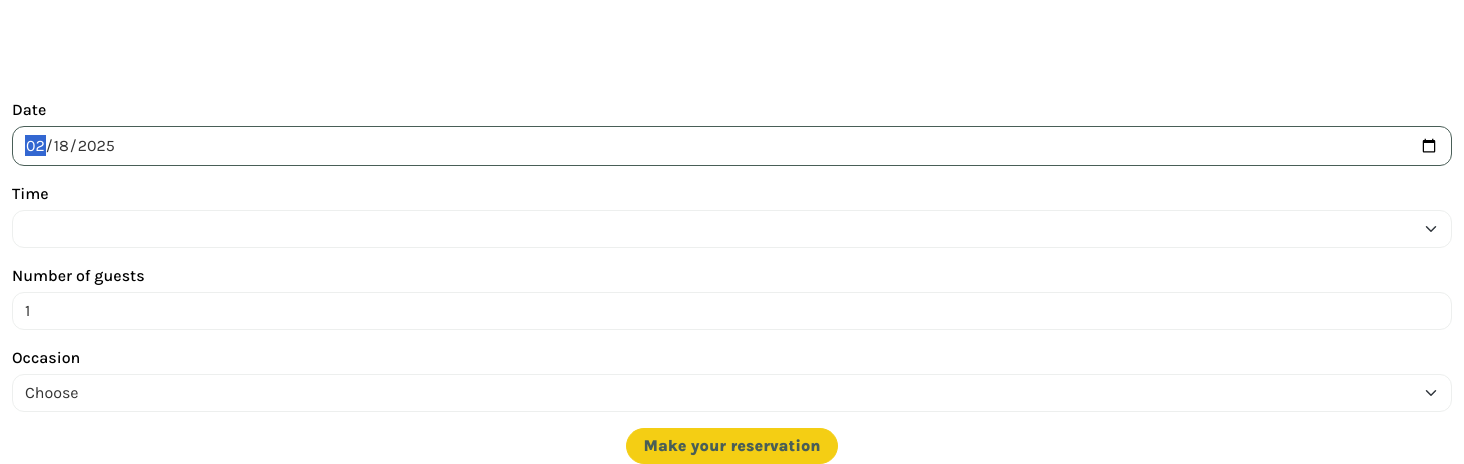
BookingForm › BookingForm show validate error and fail to submit
The image size is (1464, 464).
(page scrolled)
Clear the date field with test id "input-date": (732, 146) [12, 126, 1452, 166]
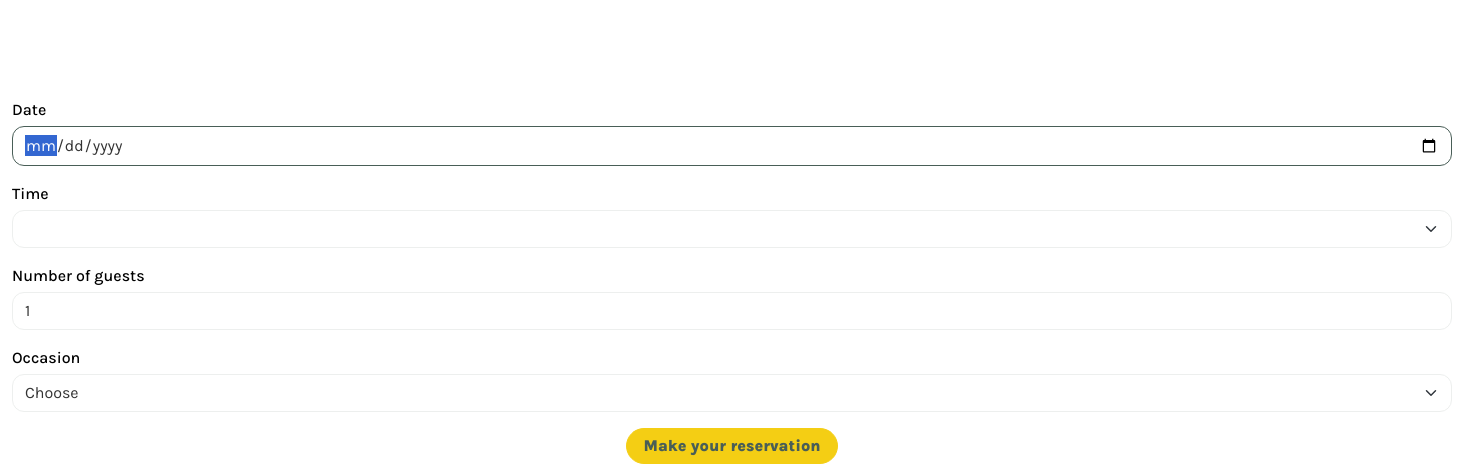
Select "" in the dropdown with test id "input-time": (732, 229) [12, 210, 1452, 248]
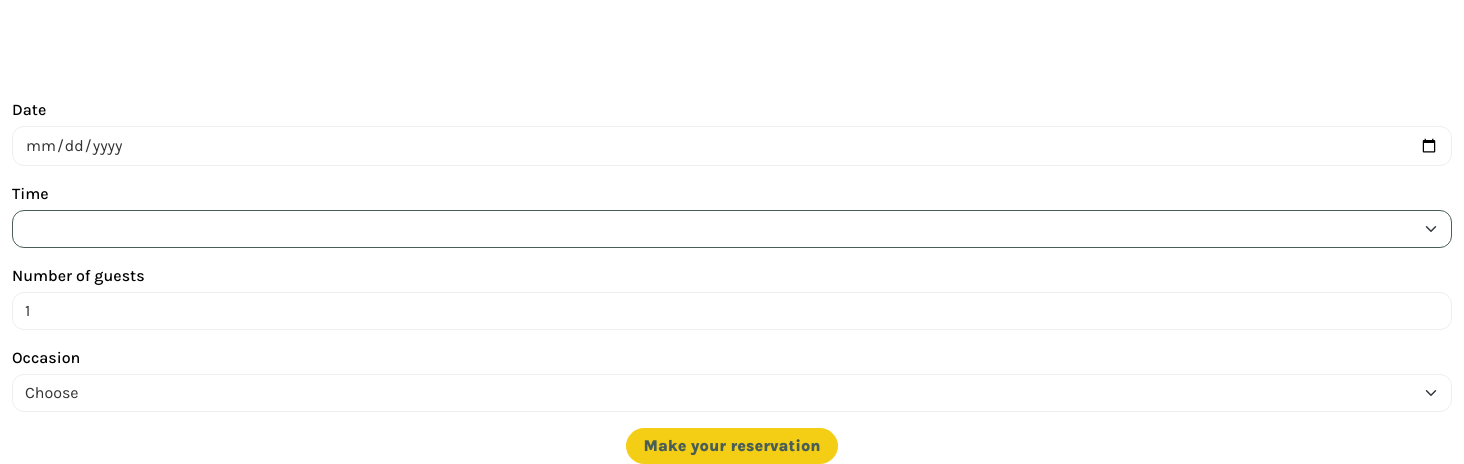
Replace the text in the number field with test id "input-number-of-guests" with "0": (732, 311) [12, 292, 1452, 330]
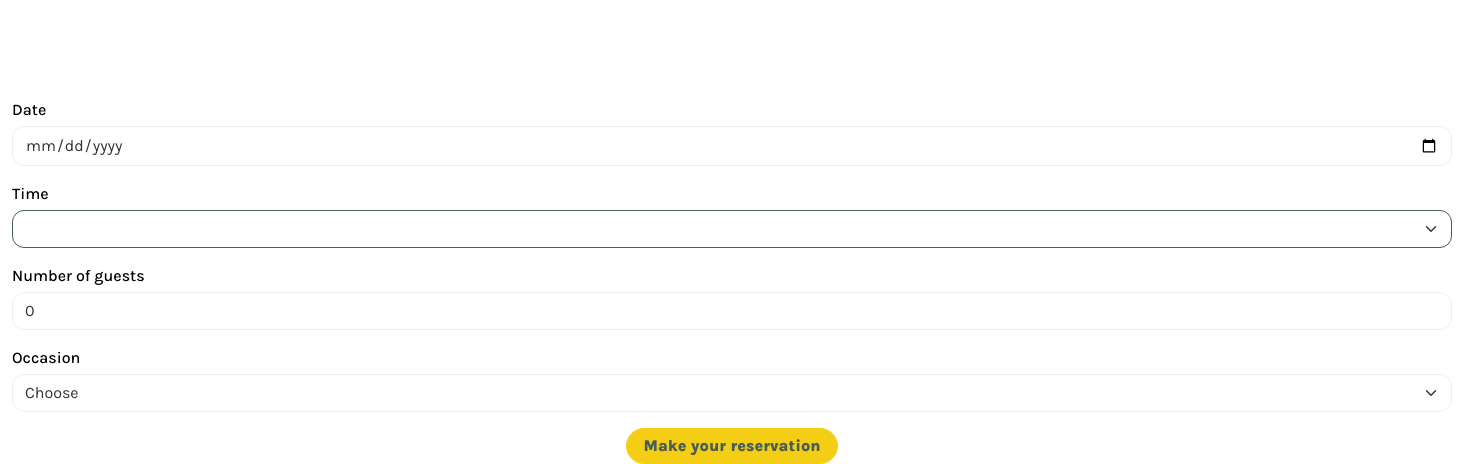
Select "Choose" in the dropdown with test id "input-occasion": (732, 393) [12, 374, 1452, 412]
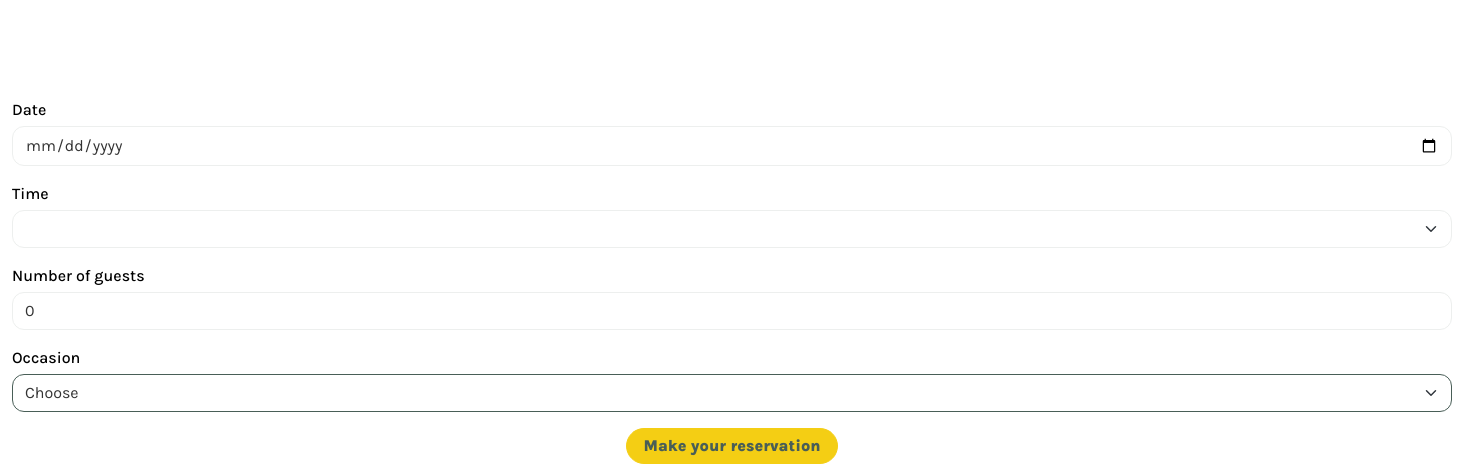
Submit the form from the button, box [626, 428, 838, 463]
(page scrolled)
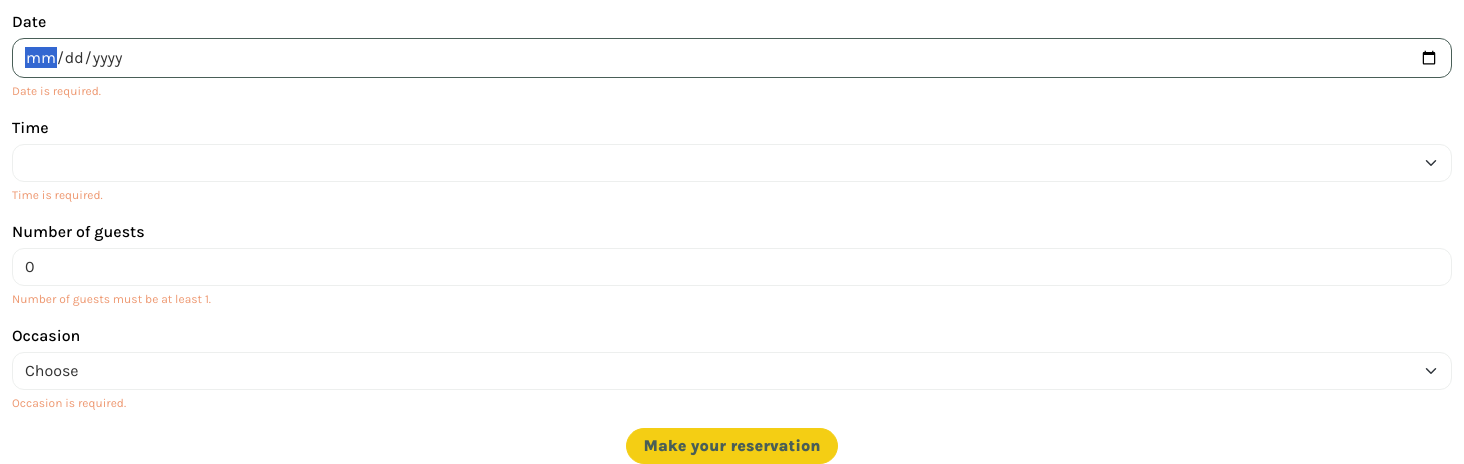
expect the number of messages is 4: met, box [12, 84, 101, 98]; [12, 188, 103, 202]; [12, 292, 211, 306]; [12, 396, 126, 410]
expect the text "Date is required." is shown: met, box [12, 84, 101, 98]
expect the text "Time is required." is shown: met, box [12, 188, 103, 202]
